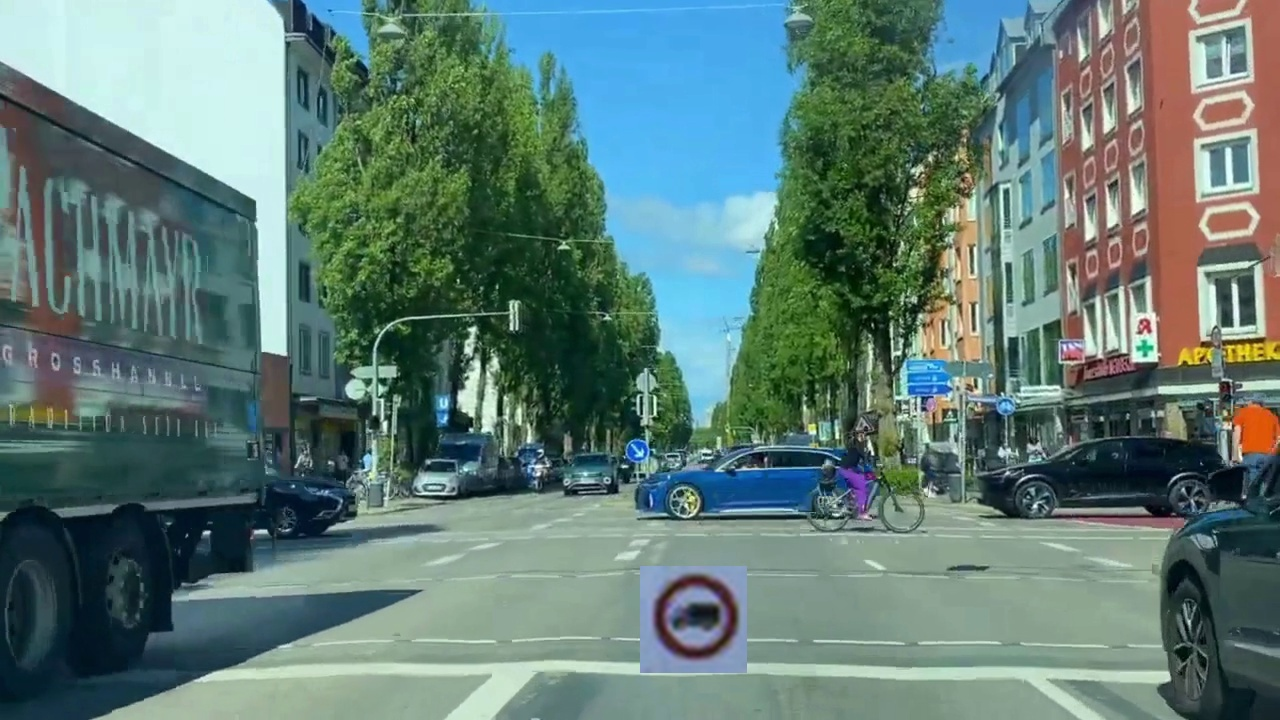Veh >3.5t prohib: (640, 566, 747, 673)
